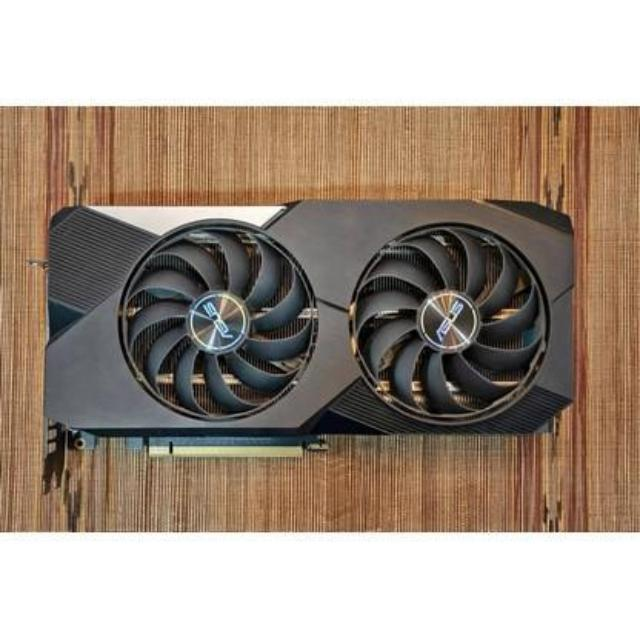GPU: (43, 195, 583, 472)
